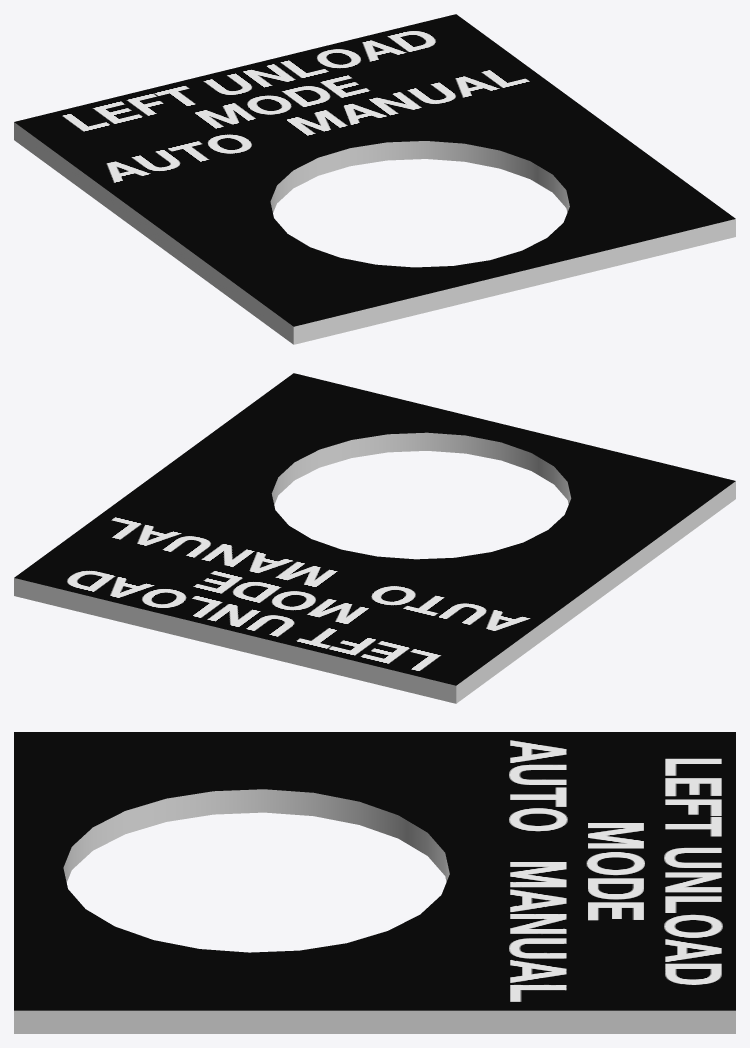
The model's file is leftunloadmodestation.dae.
3 renders of one model, top to bottom at view 1: azimuth 30°, elevation 25°; view 2: azimuth 150°, elevation 25°; view 3: azimuth 270°, elevation 25°, orthographic. The views are drawn at different scales.
Visible parts, largest first — view 1: SketchUp (×3); view 2: SketchUp (×3); view 3: SketchUp (×3).
Part boxes in pixels (<box>): SketchUp (×3): <box>14,14,735,344</box>; SketchUp (×3): <box>14,373,735,703</box>; SketchUp (×3): <box>14,732,735,1033</box>.
Size of the model in its own units: 2.01 by 2.2 by 0.0787.
2 materials, 1 textured.
